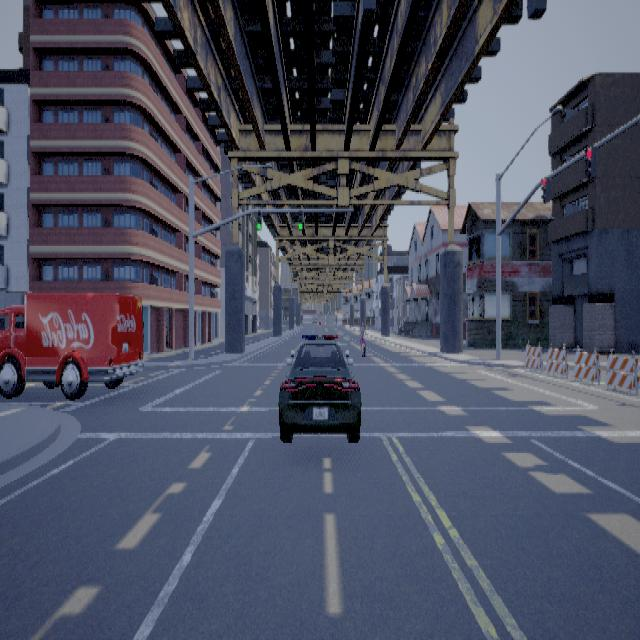green_light: (258, 209, 263, 229), (300, 209, 304, 229)
red_light: (586, 145, 597, 178), (542, 175, 551, 202)
vehicle: (1, 290, 145, 399), (279, 334, 363, 442)
